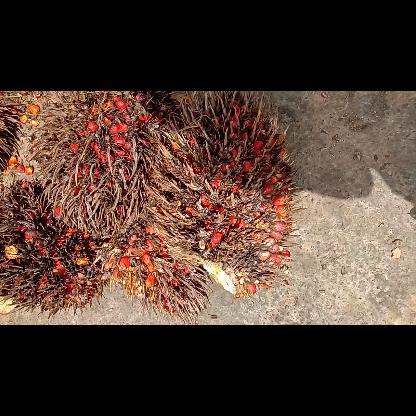Terlalu masak: (140, 91, 308, 303), (23, 90, 186, 248), (0, 175, 114, 321), (88, 212, 216, 324)
